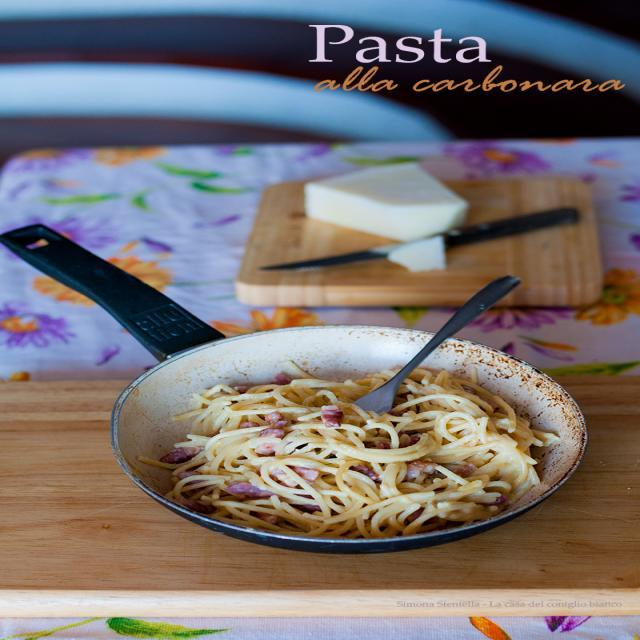Pasta with carbonara sauce: (117, 306, 607, 584)
